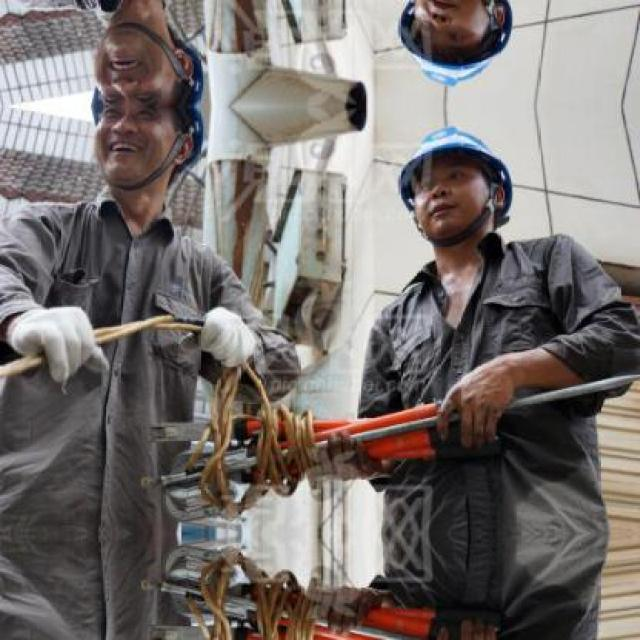helmet: (383, 113, 515, 256), (73, 106, 210, 208), (73, 5, 210, 106), (383, 0, 517, 100)
